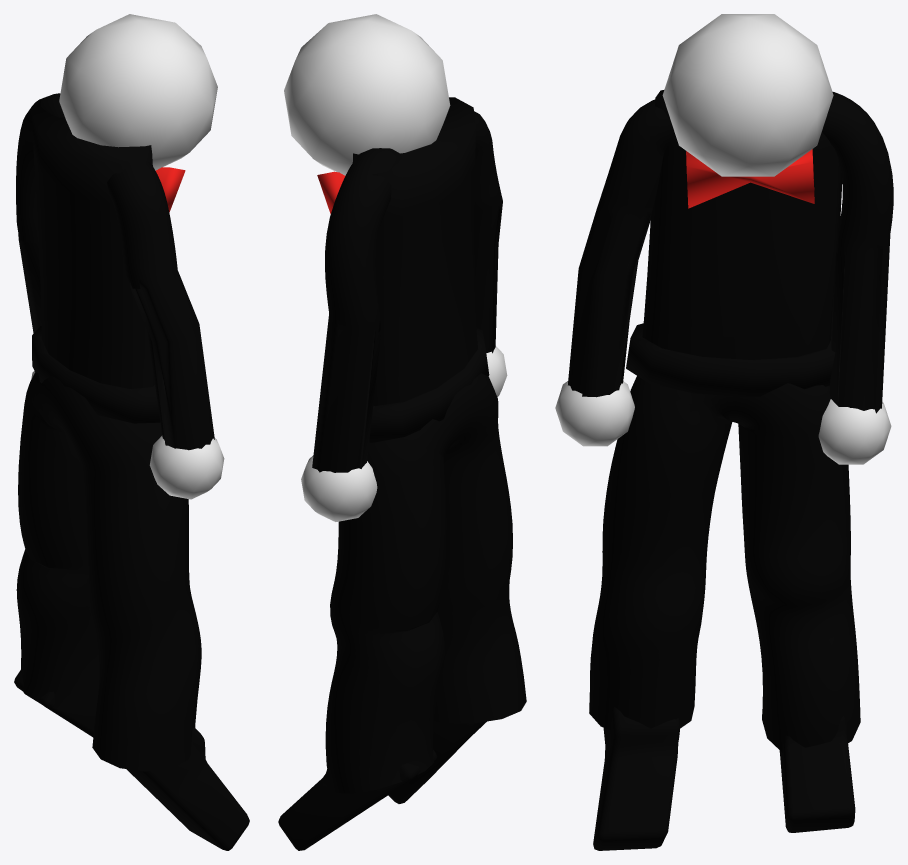
File: butler.fbx
3 views of the same model, side by side, from view 1: azimuth 30°, elevation 25°; view 2: azimuth 150°, elevation 25°; view 3: azimuth 270°, elevation 25° (orthographic). The views are drawn at different scales.
Parts seen in each view (by area): view 1: BézierCurve.001; view 2: BézierCurve.001; view 3: BézierCurve.001.
Boxes of the visible parts, x1,y1,x2,y2 form: BézierCurve.001: [14, 14, 249, 850]; BézierCurve.001: [278, 14, 526, 850]; BézierCurve.001: [555, 14, 893, 850].
Size of the model in its own units: 71.51 by 336 by 125.
